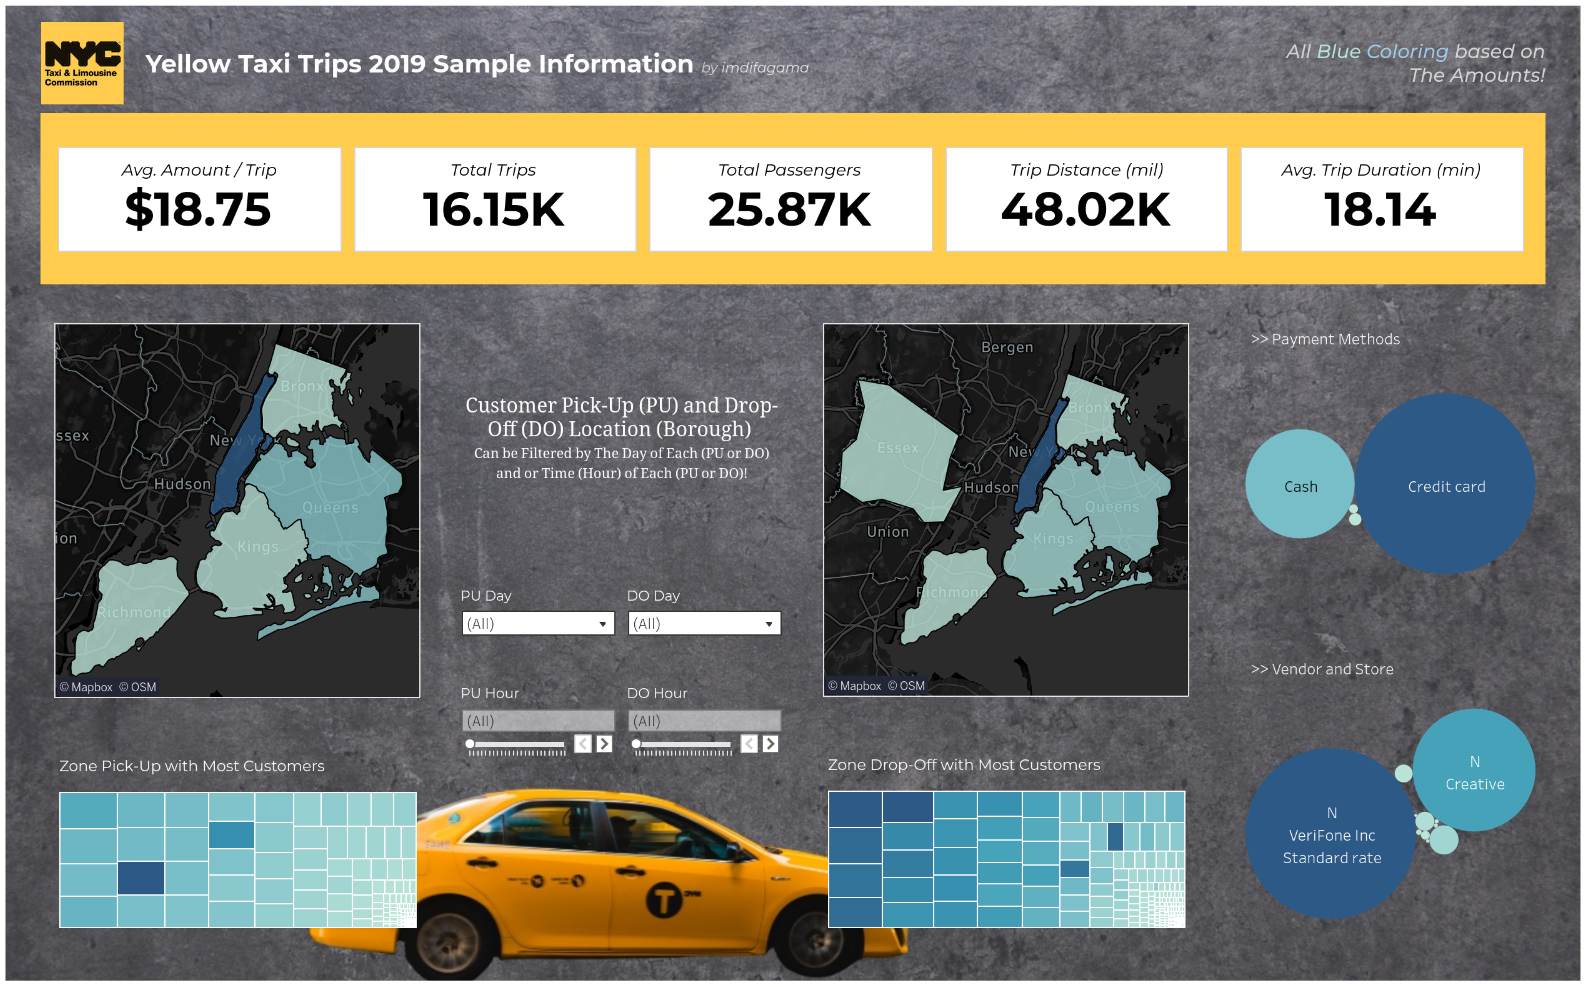

The dashboard page shown, as its layout file describes it:
{"tool":"tableau","page":{"name":"NYC TLC","canvas":[1000,1000],"units":"permille","ordinal":0},"visuals":[{"type":"worksheet","box":[0,0,1000,1000]},{"type":"worksheet","param":"D:/Lessons/302709898_387238303557475_1324643316475651267_n.jpg","box":[6,7,47.1,81.3]},{"type":"worksheet","param":"horz","box":[4.8,9.3,990.3,981.4]},{"type":"worksheet","param":"vert","box":[4.8,9.3,990.3,981.4]},{"type":"worksheet","box":[4.8,9.3,990.3,981.4]},{"type":"worksheet","box":[4.8,9.3,990.3,75.1]},{"type":"worksheet","title":"Pickup Passenger Location","mark":"Automatic","rows":["puBrLat"],"cols":["puBrLon"],"param":"[federated.19qgtif1wgrlg51frjaun1e695rp].[none:puBorough:nk]","box":[310.2,16.3,101.4,62.7]},{"type":"worksheet","title":"# Trips and Passengers","mark":"Automatic","rows":["yellow_taxi_joined_7C7A6DF857F0416582869B9501E5B368","passenger_count","trip_distance","trip_duration_minutes"],"cols":["pickup_datetime","pickup_datetime","pickup_datetime"],"param":"[federated.19qgtif1wgrlg51frjaun1e695rp].[none:puState:nk]","box":[421.2,16.3,101.4,69.7]},{"type":"worksheet","title":"Zone","mark":"Square","rows":["puZone"],"param":"[federated.19qgtif1wgrlg51frjaun1e695rp].[none:puZone:nk]","box":[531.1,16.3,96.6,61.6]},{"type":"worksheet","title":"Vendor and Store","mark":"Square","rows":["store_and_fwd_flag","rate_name"],"cols":["vendor_name"],"param":"[federated.19qgtif1wgrlg51frjaun1e695rp].[none:vendor_name:nk]","box":[636.1,16.3,101.4,60.4]},{"type":"worksheet","title":"Vendor and Store","mark":"Square","rows":["store_and_fwd_flag","rate_name"],"cols":["vendor_name"],"param":"[federated.19qgtif1wgrlg51frjaun1e695rp].[none:rate_name:nk]","box":[746.5,16.3,101.4,68.5]},{"type":"worksheet","title":"# Trips and Passengers","mark":"Automatic","rows":["yellow_taxi_joined_7C7A6DF857F0416582869B9501E5B368","passenger_count","trip_distance","trip_duration_minutes"],"cols":["pickup_datetime","pickup_datetime","pickup_datetime"],"param":"[federated.19qgtif1wgrlg51frjaun1e695rp].[tdy:dropoff_datetime:qk]","box":[857,26.7,123.7,55.8]},{"type":"worksheet","title":"Indicator","mark":"Automatic","cols":["Calculation_1414974747108728835","Calculation_1414974747111907334","Calculation_784470799393964033","Calculation_784470799394000899","Calculation_784470799394193413"],"box":[4.8,84.4,990.3,99.8]},{"type":"worksheet","param":"horz","box":[4.8,184.2,990.3,806.5]},{"type":"worksheet","box":[4.8,184.2,990.3,806.5]},{"type":"worksheet","title":"Pickup Passenger Location","mark":"Automatic","rows":["puBrLat"],"cols":["puBrLon"],"box":[4.8,184.2,265.4,409.4]},{"type":"worksheet","param":"vert","box":[270.2,184.2,724.9,806.5]},{"type":"worksheet","param":"horz","box":[270.2,184.2,724.9,806.5]},{"type":"worksheet","box":[270.2,184.2,724.9,806.5]},{"type":"worksheet","title":"# Trips and Passengers","mark":"Automatic","rows":["yellow_taxi_joined_7C7A6DF857F0416582869B9501E5B368","passenger_count","trip_distance","trip_duration_minutes"],"cols":["pickup_datetime","pickup_datetime","pickup_datetime"],"box":[270.2,184.2,724.9,548.1]},{"type":"worksheet","box":[100.8,592.3,60.4,34.8]},{"type":"worksheet","title":"Zone","mark":"Square","rows":["puZone"],"box":[4.8,593.7,265.4,397]},{"type":"worksheet","title":"Total Amount","mark":"Automatic","rows":["fare_amount"],"box":[166,595.8,103.2,385.6]},{"type":"worksheet","title":"Payment","mark":"Automatic","rows":["method_payment"],"cols":["yellow_taxi_joined_7C7A6DF857F0416582869B9501E5B368"],"box":[270.2,732.3,324.6,258.4]},{"type":"worksheet","title":"Vendor and Store","mark":"Square","rows":["store_and_fwd_flag","rate_name"],"cols":["vendor_name"],"box":[594.9,732.3,400.3,258.4]}]}

Visuals, with their boxes on the dashboard's canvas, which has no fixed pixel size, in thousandths of its width and height (x1, y1, x2, y2). These are canvas units, not pixel positions in the 1586x987 screenshot, which may show the page scaled, cropped or inside an application window:
worksheet: [0, 0, 1000, 1000]
worksheet: [6, 7, 53, 88]
worksheet: [5, 9, 995, 991]
worksheet: [5, 9, 995, 991]
worksheet: [5, 9, 995, 991]
worksheet: [5, 9, 995, 84]
"Pickup Passenger Location" worksheet: [310, 16, 412, 79]
"# Trips and Passengers" worksheet: [421, 16, 523, 86]
"Zone" worksheet (Square marks): [531, 16, 628, 78]
"Vendor and Store" worksheet (Square marks): [636, 16, 738, 77]
"Vendor and Store" worksheet (Square marks): [746, 16, 848, 85]
"# Trips and Passengers" worksheet: [857, 27, 981, 82]
"Indicator" worksheet: [5, 84, 995, 184]
worksheet: [5, 184, 995, 991]
worksheet: [5, 184, 995, 991]
"Pickup Passenger Location" worksheet: [5, 184, 270, 594]
worksheet: [270, 184, 995, 991]
worksheet: [270, 184, 995, 991]
worksheet: [270, 184, 995, 991]
"# Trips and Passengers" worksheet: [270, 184, 995, 732]
worksheet: [101, 592, 161, 627]
"Zone" worksheet (Square marks): [5, 594, 270, 991]
"Total Amount" worksheet: [166, 596, 269, 981]
"Payment" worksheet: [270, 732, 595, 991]
"Vendor and Store" worksheet (Square marks): [595, 732, 995, 991]
